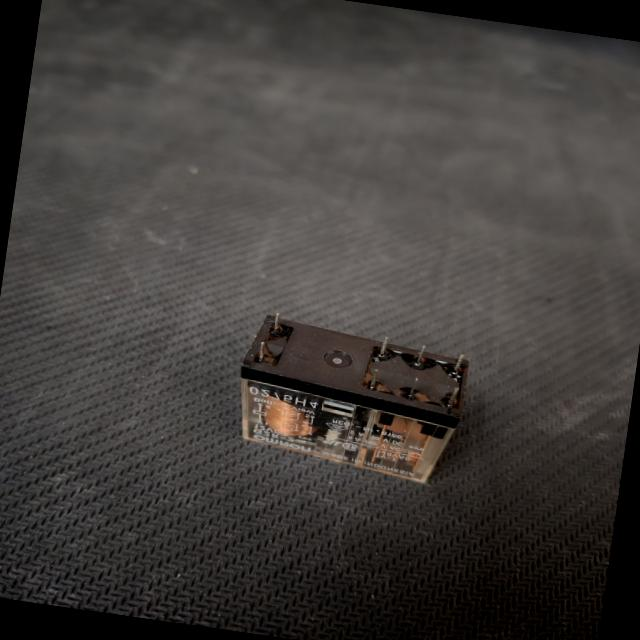relay: (195, 296, 488, 502)
